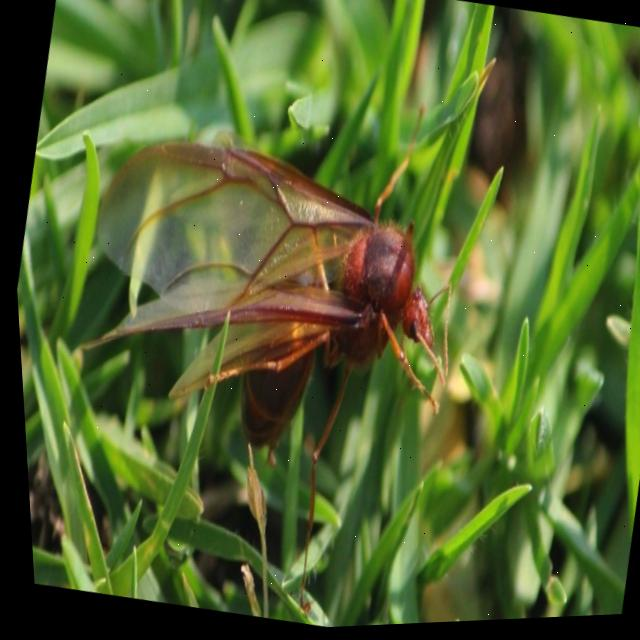Alive-Male-Alate: (15, 41, 507, 640)
